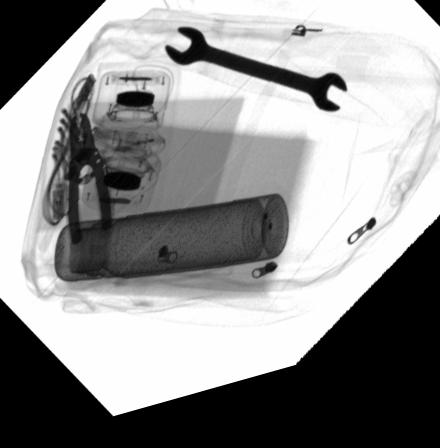Pliers: (65, 116, 113, 251)
Wrench: (165, 35, 349, 130)
